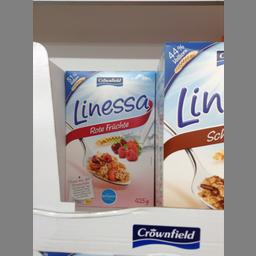cereal: (62, 68, 156, 206), (158, 41, 223, 208)
